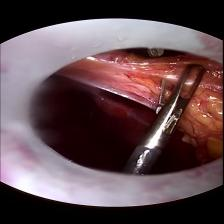Grasper: (135, 60, 206, 148)
